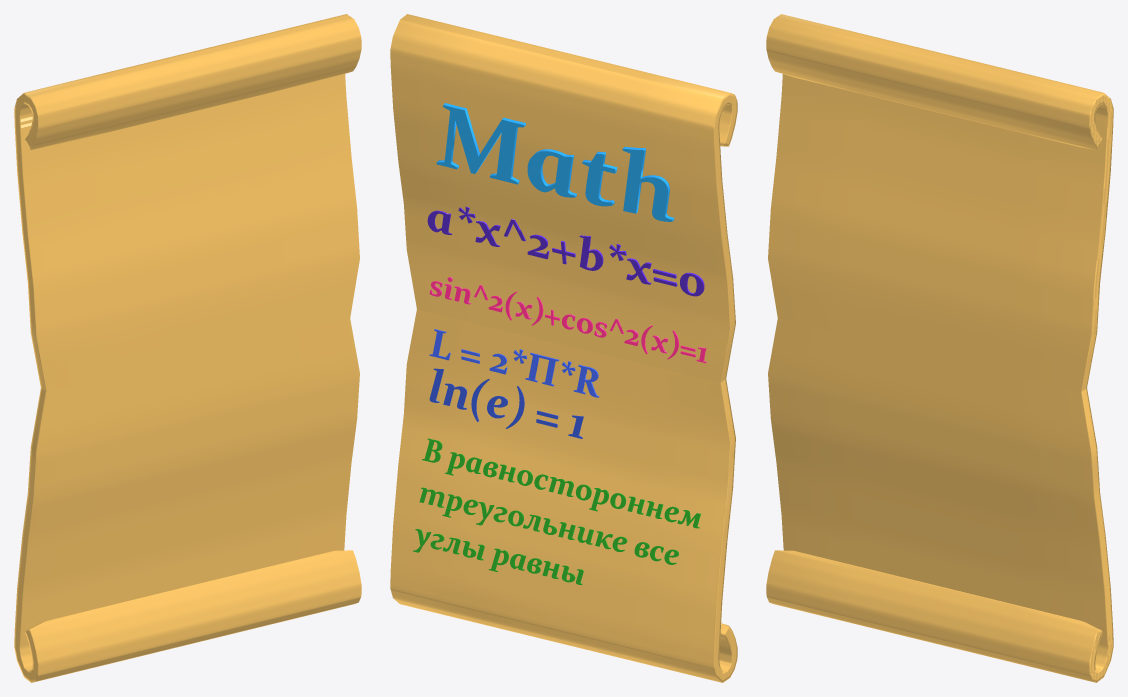
File: Scroll.fbx
The picture shows the model from 3 angles, left to right: view 1: azimuth 30°, elevation 25°; view 2: azimuth 150°, elevation 25°; view 3: azimuth 330°, elevation 25°; orthographic projection.
Visible parts, largest first — view 1: Cube; view 2: Cube; view 3: Cube.
Part boxes in pixels (bbox=[...]): Cube: bbox=[14, 14, 361, 682]; Cube: bbox=[390, 14, 737, 682]; Cube: bbox=[766, 14, 1113, 682].
Size of the model in its own units: 150 by 260 by 20.92.
